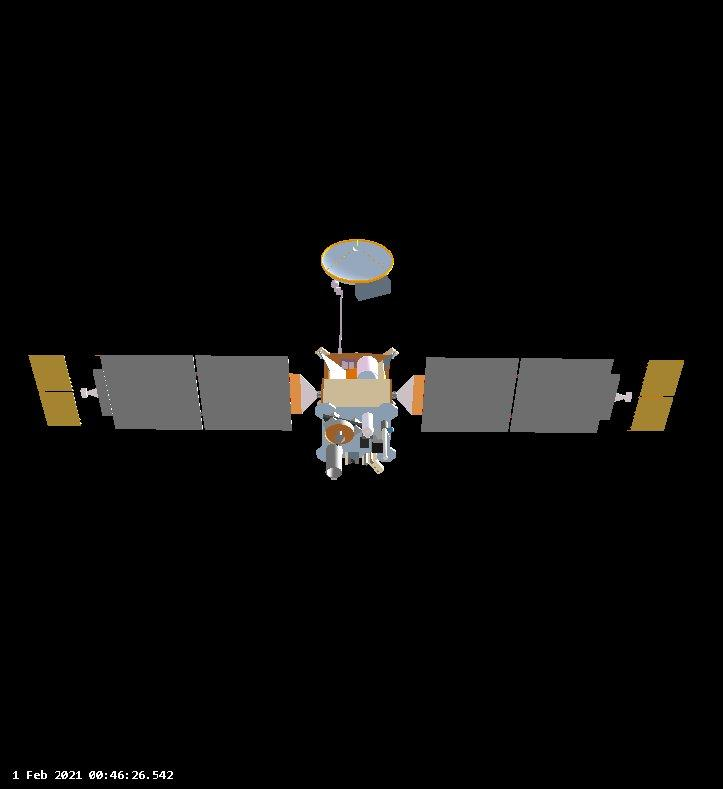antenna: (317, 233, 397, 288), (321, 418, 357, 448)
body: (313, 338, 408, 467)
solar: (93, 352, 296, 432), (419, 355, 621, 433), (28, 348, 84, 429), (627, 358, 687, 433)
thruster: (324, 445, 347, 482)
